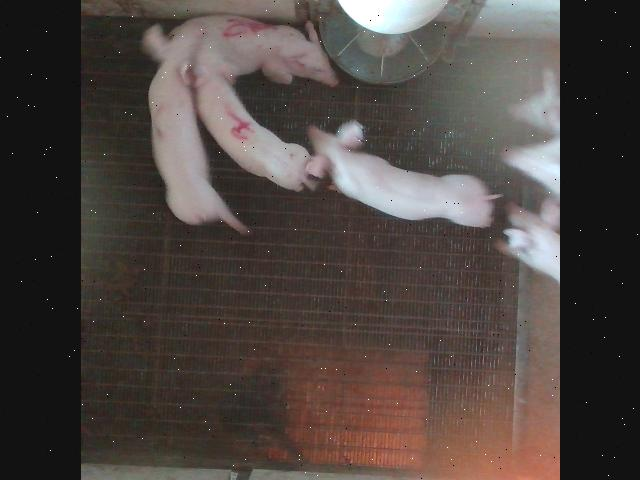pig-2: (141, 19, 247, 234)
pig-4: (191, 32, 309, 191), (196, 16, 336, 86)
